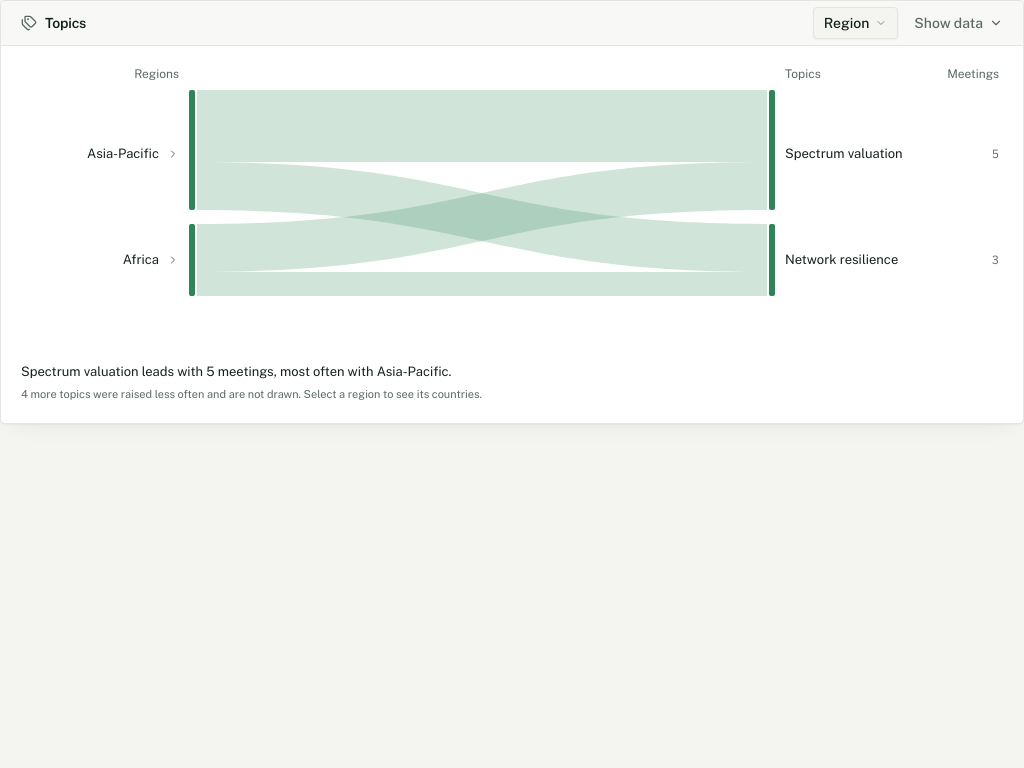
Test: TopicsFigure › offers the regions in the chart's own order, under a way back to all of them
The width and height of the screenshot is (1024, 768).
Click the button "Region".
click(856, 23)  # box [813,7,898,39]
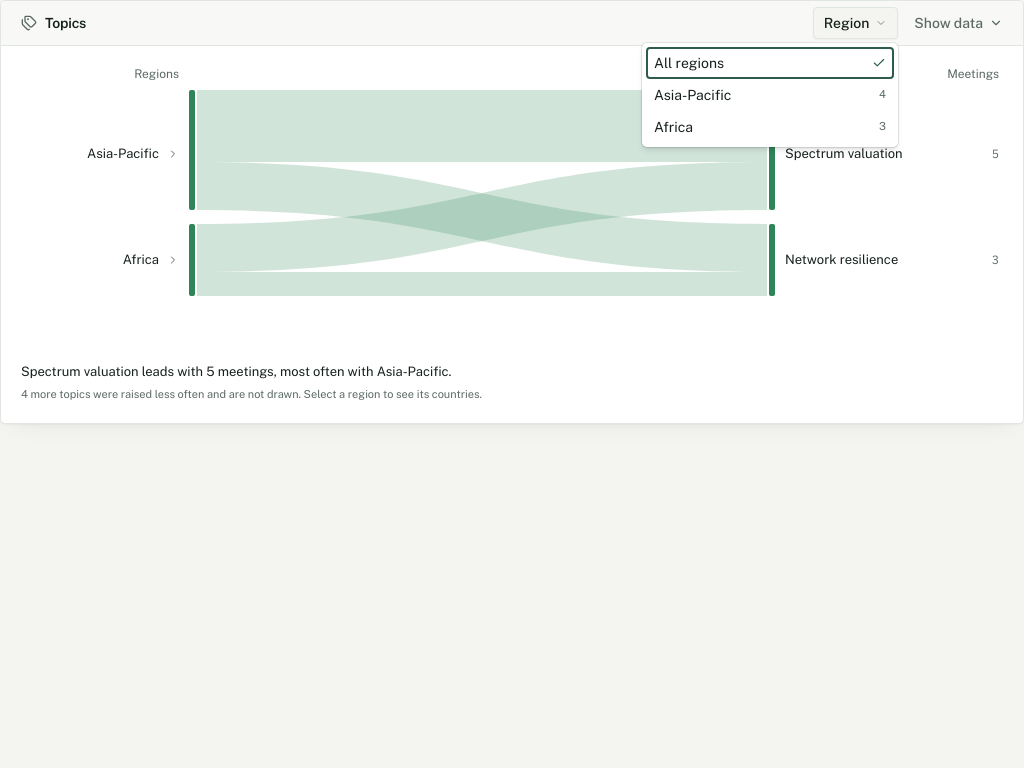
Check: the buttons read "All regions", "Asia-Pacific4", "Africa3", in this order, box [646,47,894,79]; [646,79,894,111]; [646,111,894,143]
